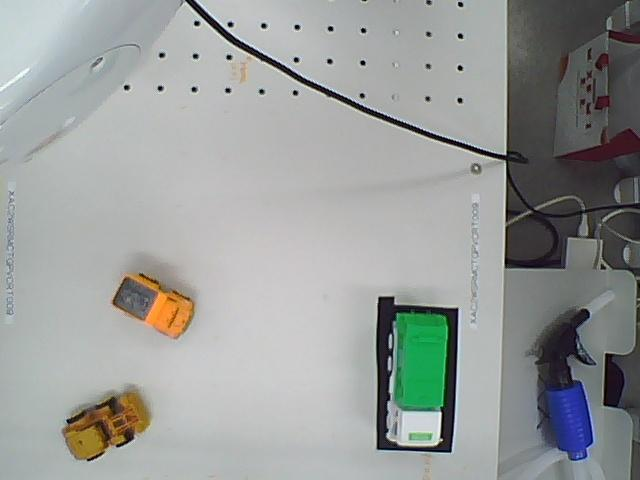Diesel car: (106, 265, 205, 345)
Electric car: (378, 308, 449, 450)
Gasoline car: (56, 383, 152, 462)
